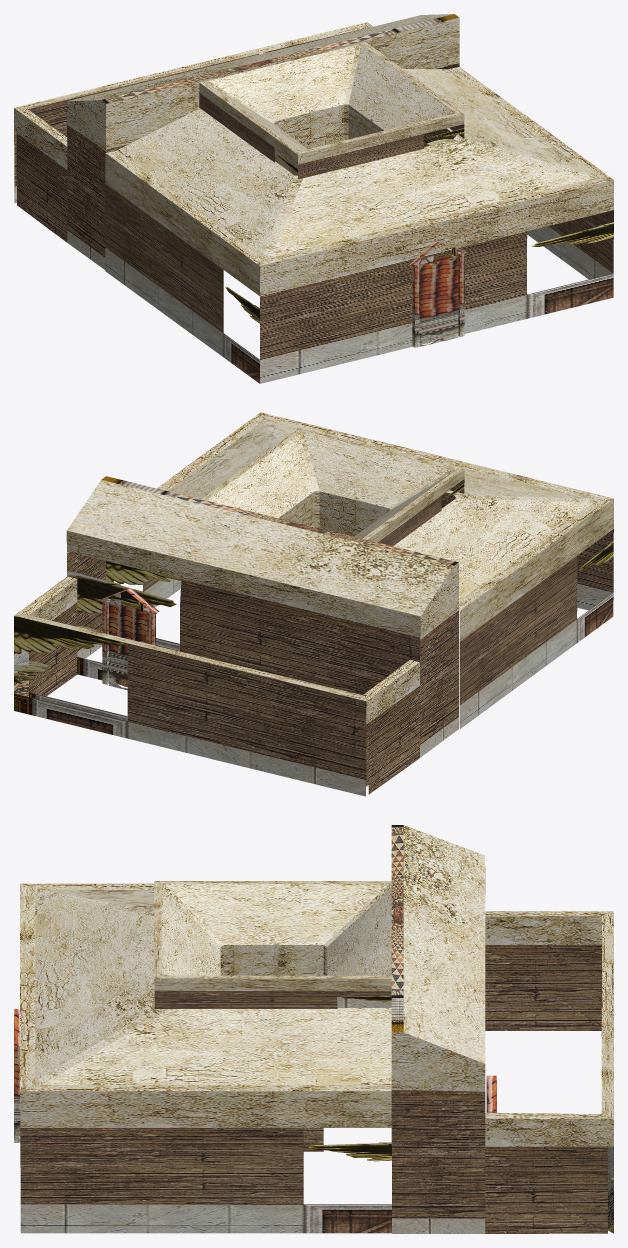
The model's file is rome_alt_10.dae.
3 views of the same model, one above another, from view 1: azimuth 30°, elevation 25°; view 2: azimuth 150°, elevation 25°; view 3: azimuth 270°, elevation 25° (orthographic). The views are drawn at different scales.
Visible parts, largest first — view 1: Object03-Pivot; view 2: Object03-Pivot; view 3: Object03-Pivot.
Boxes of the visible parts, x1,y1,x2,y2 form: Object03-Pivot: (14,14,613,383); Object03-Pivot: (14,412,613,796); Object03-Pivot: (14,825,613,1233).
Bounding box in the file's own units: 19.41 × 23.65 × 8.77.
